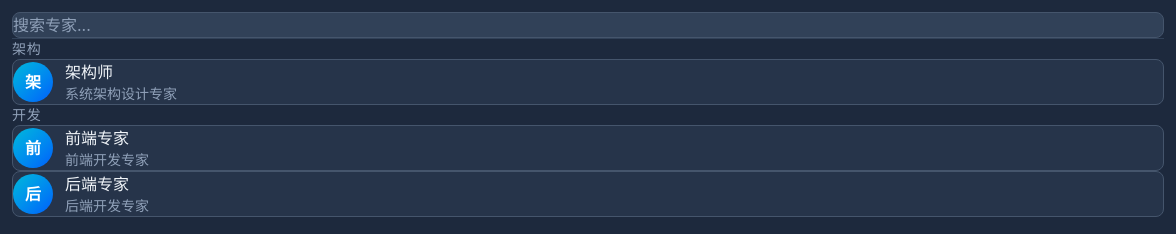
Test: ExpertList › 应该支持按描述搜索
In the field with placeholder "搜索专家...": (588, 25) top-left (12, 12), bottom-right (1164, 38), type "系统架构"
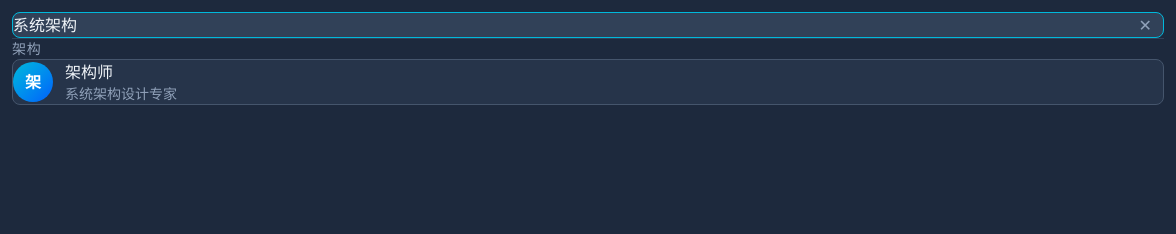
Expected: the heading "架构师" is shown, top-left (65, 62), bottom-right (113, 82)
Now the button "前端专家" is gone
